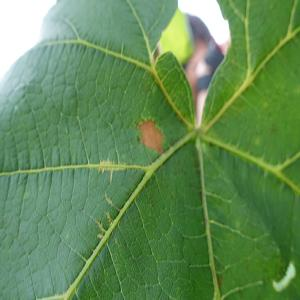Folha: (0, 0, 299, 299)
Fungo: (135, 116, 165, 156), (89, 211, 113, 241), (106, 210, 118, 244), (104, 192, 121, 212), (94, 218, 106, 240), (97, 158, 113, 174), (105, 210, 113, 226), (97, 231, 103, 239)
